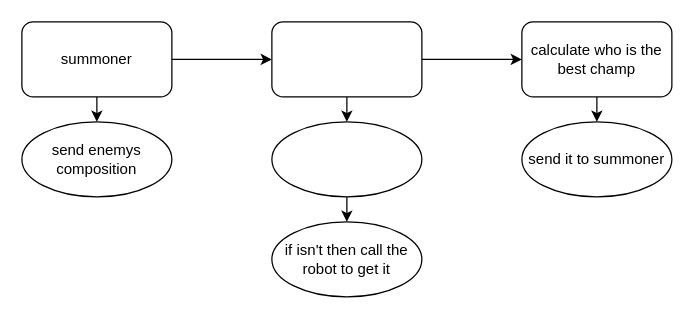
The diagram is 694 pixels wide and 319 high, and some of its shapes have lost their labels. Each missing label, with the centre of its shape:
"app" belongs at point (346, 59).
"check if the enemy counters is in database" belongs at point (346, 159).
